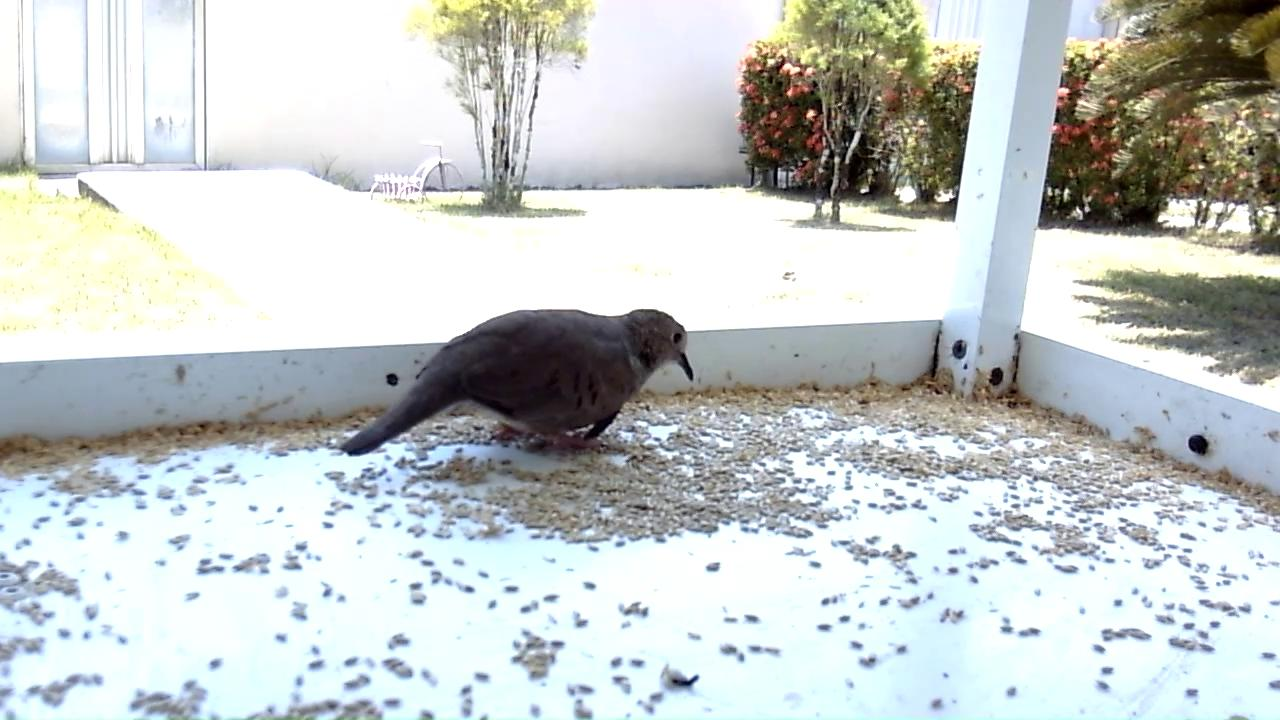rolinha: (340, 304, 698, 461)
